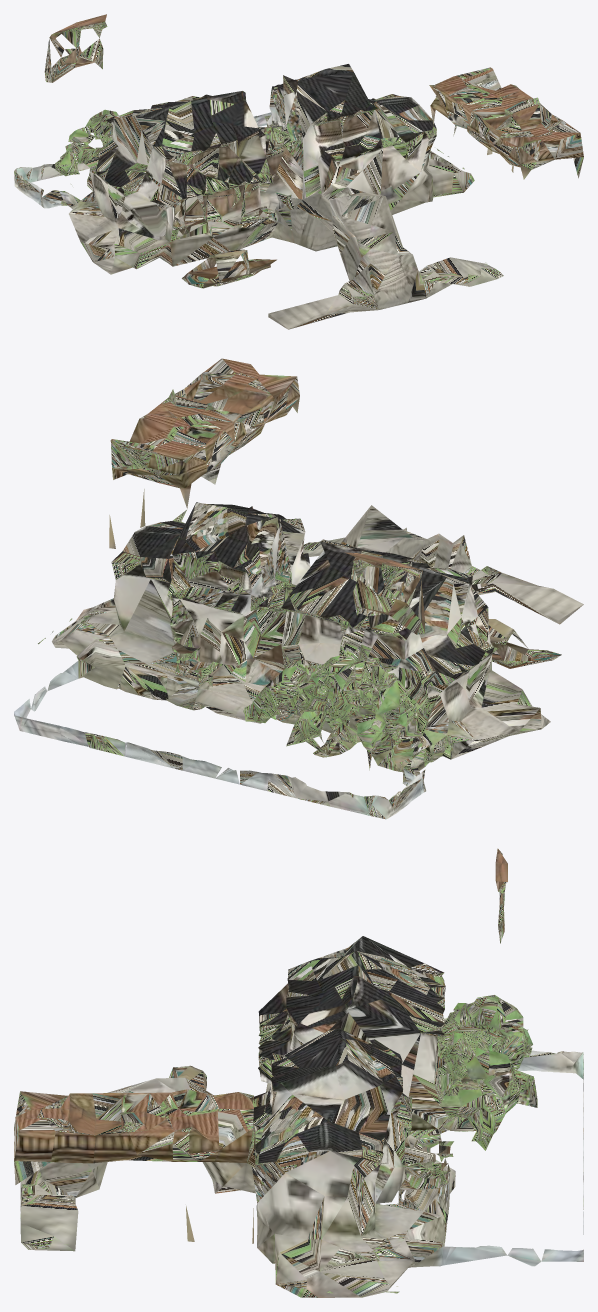
The model's file is bq_canal_house.far.glb.
3 views of the same model, one above another, from view 1: azimuth 30°, elevation 25°; view 2: azimuth 150°, elevation 25°; view 3: azimuth 270°, elevation 25° (orthographic). The views are drawn at different scales.
Bounding box in the file's own units: 1.88 × 0.8596 × 1.9.
Materials: 1 (1 with a texture image).
